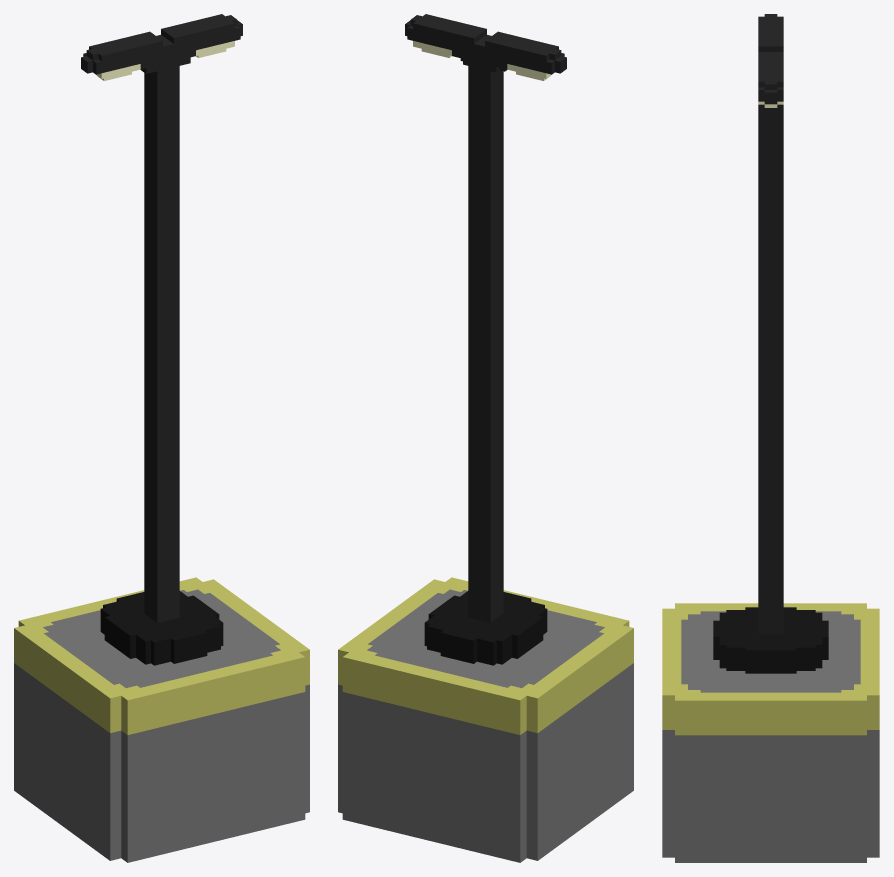
Rendered from barrier1-4.obj.
The picture shows the model from 3 angles, left to right: view 1: azimuth 30°, elevation 25°; view 2: azimuth 150°, elevation 25°; view 3: azimuth 270°, elevation 25°; orthographic projection.
Size of the model in its own units: 3.6 by 13.2 by 3.4.
1 material, 1 textured.
